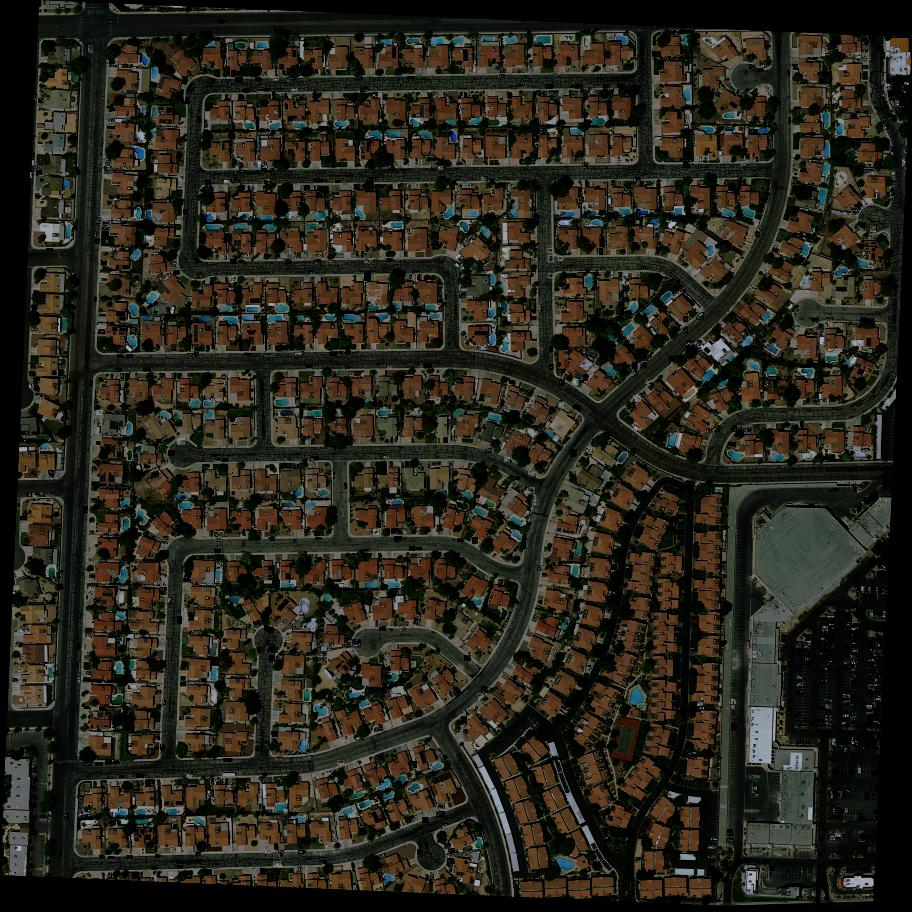large-vehicle: (316, 658, 327, 668), (436, 811, 445, 819), (623, 275, 629, 286), (166, 597, 173, 606), (137, 773, 145, 779), (28, 384, 34, 391), (857, 766, 862, 774), (224, 759, 231, 762), (110, 196, 119, 198), (264, 180, 272, 182), (46, 492, 51, 495), (32, 494, 38, 495)
ship: (892, 171, 896, 181)
small-vehicle: (352, 639, 361, 647), (459, 291, 468, 299), (686, 341, 695, 349), (680, 327, 689, 335), (269, 644, 277, 652), (634, 394, 642, 402), (586, 447, 594, 455), (870, 225, 878, 233), (519, 484, 527, 492), (274, 861, 283, 868), (795, 683, 804, 690), (573, 405, 582, 412), (571, 449, 578, 458), (364, 273, 371, 282), (696, 313, 705, 320), (533, 499, 540, 508), (687, 750, 697, 756), (476, 434, 482, 444), (178, 438, 186, 445), (36, 394, 44, 401), (231, 275, 238, 283), (481, 686, 489, 693), (396, 528, 404, 535), (815, 611, 823, 618), (632, 362, 639, 370), (560, 379, 567, 387), (507, 183, 514, 191), (499, 182, 506, 190), (407, 274, 414, 282), (615, 155, 622, 163), (714, 426, 722, 433), (874, 364, 882, 371), (793, 304, 800, 312), (855, 505, 862, 513), (887, 110, 895, 117), (177, 616, 183, 625), (88, 45, 94, 54), (652, 51, 661, 57), (246, 185, 253, 192), (447, 690, 454, 697), (477, 692, 484, 699), (463, 709, 470, 716), (374, 529, 381, 536), (464, 655, 471, 662), (442, 822, 449, 829), (156, 871, 163, 878), (179, 121, 186, 128), (182, 76, 189, 83), (530, 487, 537, 494), (583, 375, 590, 382), (646, 378, 653, 385), (641, 363, 648, 370), (529, 397, 536, 404), (558, 402, 565, 409), (403, 159, 410, 166), (174, 270, 181, 277), (731, 426, 738, 433), (744, 154, 751, 161), (851, 509, 858, 516), (570, 471, 577, 478), (636, 528, 643, 535), (902, 159, 909, 166), (168, 450, 176, 456), (85, 662, 91, 670), (58, 253, 66, 259), (35, 164, 43, 170), (378, 724, 384, 732), (385, 651, 391, 659), (343, 734, 349, 742), (353, 438, 359, 446), (447, 858, 455, 864), (260, 868, 266, 876), (108, 107, 116, 113), (243, 88, 251, 94), (215, 69, 221, 77), (330, 350, 338, 356), (858, 815, 864, 823), (838, 791, 844, 799), (833, 769, 839, 777), (860, 845, 868, 851), (814, 898, 820, 906), (825, 709, 833, 715), (633, 370, 639, 378), (308, 271, 316, 277), (575, 84, 583, 90), (432, 94, 440, 100), (470, 65, 476, 73), (850, 207, 858, 213), (676, 538, 684, 544), (880, 52, 886, 60), (472, 537, 478, 545), (318, 652, 327, 657), (328, 446, 337, 451), (254, 741, 259, 750), (95, 419, 101, 426), (35, 193, 42, 199), (171, 345, 177, 352), (272, 647, 278, 654), (269, 655, 275, 662), (474, 706, 480, 713), (413, 619, 419, 626), (105, 760, 112, 766), (274, 844, 280, 851), (207, 869, 213, 876), (213, 863, 220, 869), (108, 125, 115, 131), (827, 653, 834, 659), (573, 379, 579, 386), (600, 267, 607, 273), (461, 158, 467, 165), (642, 825, 649, 831), (606, 835, 612, 842), (443, 437, 449, 444), (504, 457, 511, 463), (354, 184, 360, 191), (561, 706, 568, 712), (706, 428, 713, 434), (669, 357, 676, 363), (863, 499, 869, 506), (860, 502, 866, 509), (757, 225, 763, 232), (855, 52, 862, 58), (33, 377, 41, 382), (337, 760, 345, 765), (394, 436, 399, 444), (369, 528, 374, 536), (272, 77, 280, 82), (235, 77, 243, 82), (825, 705, 833, 710), (850, 674, 858, 679), (726, 838, 734, 843), (852, 848, 860, 853), (843, 791, 848, 799), (424, 363, 432, 368), (576, 774, 584, 779), (528, 473, 536, 478), (459, 92, 464, 100), (499, 579, 504, 587), (228, 439, 234, 445), (93, 467, 99, 473), (392, 529, 398, 535), (187, 71, 193, 77), (697, 340, 703, 346), (405, 184, 411, 190), (855, 204, 861, 210), (857, 202, 863, 208), (860, 222, 866, 228), (885, 534, 891, 540), (865, 497, 871, 503), (736, 859, 741, 866), (90, 498, 97, 503), (97, 411, 104, 416), (159, 591, 166, 596), (87, 636, 94, 641), (93, 598, 100, 603), (157, 581, 164, 586), (179, 373, 184, 380), (95, 238, 100, 245), (462, 717, 467, 724), (438, 804, 445, 809), (519, 729, 526, 734), (444, 844, 451, 849), (239, 169, 246, 174), (107, 19, 114, 24), (185, 98, 190, 105), (263, 70, 268, 77), (231, 70, 236, 77), (804, 647, 811, 652), (667, 609, 674, 614), (836, 667, 841, 674), (872, 769, 877, 776), (683, 163, 690, 168), (844, 746, 849, 753), (832, 739, 837, 746), (866, 711, 873, 716), (550, 364, 555, 371), (628, 273, 633, 280), (599, 249, 604, 256), (639, 834, 646, 839), (533, 96, 538, 103), (617, 84, 624, 89), (546, 85, 553, 90), (383, 94, 388, 101), (514, 675, 519, 682), (751, 285, 756, 292), (878, 587, 883, 594), (677, 531, 684, 536), (678, 517, 685, 522), (880, 46, 885, 53), (896, 74, 903, 79), (874, 106, 879, 113), (143, 367, 151, 371), (448, 855, 456, 859), (448, 849, 456, 853), (101, 261, 107, 266), (172, 263, 178, 268), (113, 374, 118, 380), (357, 665, 362, 671), (309, 459, 315, 464), (265, 626, 270, 632), (119, 775, 125, 780), (87, 761, 93, 766), (146, 779, 151, 785), (247, 734, 253, 739), (257, 621, 263, 626), (254, 622, 259, 628), (150, 779, 155, 785), (297, 867, 302, 873), (213, 778, 218, 784), (31, 152, 36, 158), (32, 136, 37, 142), (109, 60, 115, 65), (108, 122, 114, 127), (828, 665, 834, 670), (690, 680, 696, 685), (822, 622, 828, 627), (709, 845, 715, 850), (862, 816, 867, 822), (836, 807, 841, 813), (829, 791, 834, 797), (839, 809, 844, 815), (684, 317, 689, 323), (696, 343, 701, 349), (737, 395, 742, 401), (544, 736, 550, 741), (376, 522, 381, 528), (874, 810, 879, 816), (867, 699, 873, 704), (868, 670, 874, 675), (855, 593, 860, 599), (495, 183, 500, 189), (588, 695, 594, 700), (509, 93, 514, 99), (327, 69, 332, 75), (860, 317, 866, 322), (868, 319, 874, 324), (878, 571, 883, 577), (882, 536, 888, 541), (881, 539, 886, 545), (868, 36, 873, 42), (749, 64, 755, 69), (515, 476, 521, 481), (523, 488, 528, 494), (611, 564, 617, 569), (891, 146, 896, 152), (886, 87, 892, 92), (892, 115, 897, 121), (736, 90, 741, 96), (36, 171, 43, 175), (97, 216, 101, 223), (99, 330, 106, 334), (126, 354, 133, 358), (97, 322, 104, 326), (210, 277, 214, 284), (426, 874, 430, 881), (405, 461, 409, 468), (413, 761, 417, 768), (269, 626, 273, 633), (93, 781, 97, 788), (172, 846, 176, 853), (126, 855, 133, 859), (239, 94, 243, 101), (875, 639, 882, 643), (850, 655, 857, 659), (852, 634, 859, 638), (846, 620, 853, 624), (697, 706, 704, 710), (835, 833, 842, 837), (872, 793, 876, 800), (872, 734, 879, 738), (618, 272, 622, 279), (431, 165, 438, 169), (485, 448, 492, 452), (297, 252, 301, 259), (360, 87, 367, 91), (497, 74, 504, 78), (881, 73, 885, 80), (902, 100, 906, 107), (352, 645, 361, 648), (414, 158, 419, 163), (770, 400, 775, 405), (877, 540, 882, 545), (84, 506, 88, 512), (161, 587, 167, 591), (161, 575, 167, 579), (210, 531, 214, 537), (244, 352, 250, 356), (190, 353, 198, 356), (115, 368, 121, 372), (32, 308, 38, 312), (285, 260, 291, 264), (395, 822, 399, 828), (306, 437, 310, 443), (394, 536, 402, 539), (95, 763, 103, 766), (276, 756, 282, 760), (298, 850, 304, 854), (37, 123, 43, 127), (797, 663, 803, 667), (843, 689, 849, 693), (852, 683, 858, 687), (846, 623, 852, 627), (828, 636, 834, 640), (822, 626, 828, 630), (865, 793, 869, 799), (691, 645, 697, 649), (875, 816, 879, 822), (867, 689, 873, 693), (876, 671, 882, 675), (864, 740, 868, 746), (640, 266, 646, 270), (456, 185, 460, 191), (600, 825, 606, 829), (585, 451, 591, 455), (464, 92, 468, 98), (591, 89, 595, 95), (519, 85, 527, 88), (736, 424, 742, 428), (885, 588, 889, 594), (862, 66, 868, 70), (888, 91, 894, 95), (899, 130, 903, 136), (899, 100, 903, 106), (895, 100, 899, 106), (886, 83, 892, 87), (869, 79, 873, 85), (20, 517, 27, 520), (77, 664, 80, 671), (78, 643, 81, 650), (258, 531, 261, 538), (174, 219, 181, 222), (379, 627, 386, 630), (264, 851, 271, 854), (796, 676, 803, 679), (843, 696, 850, 699), (851, 680, 858, 683), (797, 691, 804, 694), (804, 645, 811, 648), (710, 838, 717, 841), (860, 834, 867, 837), (826, 715, 833, 718), (874, 699, 881, 702), (870, 740, 873, 747), (584, 666, 591, 669), (386, 167, 393, 170), (364, 260, 371, 263), (385, 258, 392, 261), (295, 352, 302, 355), (569, 85, 576, 88), (603, 85, 610, 88), (355, 76, 362, 79), (772, 249, 779, 252), (728, 442, 735, 445), (49, 470, 54, 474), (265, 163, 269, 168), (118, 354, 123, 358), (32, 305, 37, 309), (246, 252, 250, 257), (345, 636, 350, 640), (187, 775, 192, 779), (79, 798, 83, 803), (225, 95, 230, 99), (823, 737, 827, 742), (797, 667, 802, 671), (821, 679, 826, 683), (820, 651, 825, 655), (884, 595, 888, 600), (731, 723, 736, 727), (698, 702, 703, 706), (332, 473, 336, 478), (873, 747, 878, 751), (843, 721, 848, 725), (850, 718, 855, 722), (610, 272, 614, 277), (438, 166, 443, 170), (637, 180, 641, 185), (827, 317, 832, 321), (876, 543, 880, 548), (627, 565, 631, 570), (538, 566, 542, 571), (751, 154, 755, 159), (788, 118, 792, 123), (144, 465, 150, 468), (222, 459, 228, 462), (22, 513, 28, 516), (88, 577, 94, 580), (185, 572, 191, 575), (214, 550, 220, 553), (216, 538, 222, 541), (90, 565, 93, 571), (35, 188, 41, 191), (46, 249, 52, 252), (205, 181, 211, 184), (225, 277, 228, 283), (387, 529, 390, 535), (363, 549, 369, 552), (65, 813, 68, 819), (113, 761, 119, 764), (271, 731, 277, 734), (161, 744, 164, 750), (321, 861, 327, 864), (151, 867, 157, 870), (105, 163, 111, 166), (109, 119, 115, 122), (38, 103, 44, 106), (851, 702, 857, 705), (851, 695, 857, 698), (851, 671, 857, 674), (797, 641, 803, 644), (876, 636, 882, 639), (804, 651, 810, 654), (852, 649, 858, 652), (845, 613, 851, 616), (709, 866, 715, 869), (422, 608, 425, 614), (875, 691, 881, 694), (855, 740, 858, 746), (873, 708, 879, 711), (866, 709, 872, 712), (624, 881, 627, 887), (405, 194, 408, 200), (292, 88, 298, 91), (405, 251, 408, 257), (407, 76, 413, 79), (890, 379, 893, 385), (882, 571, 885, 577), (876, 555, 882, 558), (862, 50, 868, 53), (902, 85, 905, 91), (257, 648, 261, 652), (120, 374, 124, 378), (211, 345, 215, 349), (156, 690, 160, 694), (13, 678, 17, 682), (423, 818, 427, 822), (265, 88, 269, 92), (287, 78, 295, 80), (388, 365, 392, 369), (852, 608, 856, 612), (829, 622, 833, 626), (813, 319, 817, 323), (903, 147, 907, 151), (883, 125, 887, 129), (345, 350, 350, 353), (162, 460, 167, 463), (156, 440, 161, 443), (30, 372, 35, 375), (165, 640, 168, 645), (193, 583, 198, 586), (89, 381, 92, 386), (253, 162, 256, 167), (223, 253, 226, 258), (231, 260, 236, 263), (388, 628, 393, 631), (457, 727, 460, 732), (356, 738, 361, 741), (431, 874, 434, 879), (390, 438, 393, 443), (311, 530, 314, 535), (409, 547, 414, 550), (181, 683, 186, 686), (108, 872, 111, 877), (219, 20, 224, 23), (198, 117, 201, 122), (257, 89, 262, 92), (338, 351, 343, 354), (796, 645, 801, 648), (870, 637, 875, 640), (844, 661, 849, 664), (844, 645, 849, 648), (878, 611, 881, 616), (871, 594, 874, 599), (821, 645, 826, 648), (821, 635, 826, 638), (829, 612, 834, 615), (839, 816, 842, 821), (708, 855, 713, 858), (730, 872, 733, 877), (875, 787, 878, 792), (871, 765, 874, 770), (860, 839, 865, 842), (831, 747, 834, 752), (211, 778, 214, 783), (769, 873, 772, 878), (769, 865, 772, 870), (868, 677, 873, 680), (844, 711, 849, 714), (851, 737, 854, 742), (850, 712, 855, 715), (861, 594, 864, 599), (550, 347, 553, 352), (482, 177, 487, 180), (595, 813, 600, 816), (612, 181, 615, 186), (538, 91, 541, 96), (821, 325, 824, 330), (744, 428, 747, 433), (800, 421, 803, 426), (748, 427, 751, 432), (881, 86, 884, 91), (881, 80, 884, 85), (880, 39, 883, 44), (458, 539, 463, 542), (883, 93, 886, 98), (885, 102, 888, 107), (870, 72, 873, 77), (184, 575, 191, 577), (206, 345, 208, 352), (306, 366, 313, 368), (104, 165, 111, 167), (780, 645, 787, 647), (804, 641, 811, 643), (853, 852, 860, 854), (530, 317, 537, 319), (870, 54, 872, 61), (293, 463, 295, 469), (285, 457, 289, 460), (215, 458, 221, 460), (26, 493, 32, 495), (103, 228, 109, 230), (103, 221, 109, 223), (74, 225, 77, 229), (171, 267, 175, 270), (345, 641, 351, 643), (418, 850, 421, 854), (316, 538, 322, 540), (344, 365, 350, 367), (383, 456, 389, 458), (376, 620, 378, 626), (273, 735, 277, 738), (21, 747, 23, 753), (271, 737, 277, 739), (127, 840, 129, 846), (178, 866, 182, 869), (195, 853, 201, 855), (58, 852, 61, 856), (39, 99, 43, 102), (34, 93, 37, 97), (799, 647, 803, 650), (844, 693, 848, 696), (850, 677, 856, 679), (851, 668, 857, 670), (821, 667, 825, 670), (804, 634, 810, 636), (868, 659, 872, 662), (868, 650, 874, 652), (868, 640, 874, 642), (804, 663, 810, 665), (805, 661, 811, 663), (804, 657, 810, 659), (828, 649, 832, 652), (852, 643, 856, 646), (846, 636, 852, 638), (852, 630, 858, 632), (852, 628, 858, 630), (853, 624, 859, 626), (846, 618, 852, 620), (878, 594, 880, 600), (693, 620, 697, 623), (828, 630, 834, 632), (728, 833, 732, 836), (877, 659, 881, 662), (829, 836, 835, 838), (835, 837, 841, 839), (835, 790, 838, 794), (846, 786, 849, 790), (119, 248, 125, 250), (772, 867, 775, 871), (825, 721, 829, 724), (867, 692, 873, 694), (867, 686, 873, 688), (875, 683, 879, 686), (875, 668, 881, 670), (861, 740, 864, 744), (874, 726, 880, 728), (873, 715, 879, 717), (866, 722, 870, 725), (886, 571, 888, 577), (510, 381, 514, 384), (610, 817, 613, 821), (526, 403, 529, 407), (636, 857, 639, 861), (453, 436, 456, 440), (336, 180, 340, 183), (294, 252, 297, 256), (314, 260, 320, 262), (418, 275, 421, 279), (407, 342, 409, 348), (285, 93, 288, 97), (315, 70, 318, 74), (756, 232, 759, 236), (855, 586, 858, 590), (878, 564, 881, 568), (876, 588, 879, 592), (861, 587, 864, 591), (854, 487, 857, 491), (787, 70, 790, 74), (792, 64, 798, 66), (741, 164, 747, 166), (889, 98, 895, 100), (96, 441, 101, 443), (35, 386, 37, 391), (89, 574, 94, 576), (90, 591, 92, 596), (92, 518, 94, 523), (184, 579, 189, 581), (164, 537, 169, 539), (96, 232, 98, 237), (225, 181, 230, 183), (156, 345, 158, 350), (32, 328, 37, 330), (197, 275, 202, 277), (400, 627, 405, 629), (307, 531, 309, 536), (416, 548, 421, 550), (155, 737, 160, 739), (266, 740, 268, 745), (278, 851, 283, 853), (100, 856, 105, 858), (218, 777, 220, 782), (262, 169, 267, 171), (106, 159, 111, 161), (273, 93, 275, 98), (256, 78, 261, 80), (798, 651, 803, 653), (844, 698, 849, 700), (829, 661, 834, 663), (781, 635, 786, 637), (780, 642, 785, 644), (805, 654, 810, 656), (821, 649, 826, 651), (852, 639, 857, 641), (846, 630, 851, 632), (875, 595, 877, 600), (673, 700, 678, 702), (868, 662, 873, 664), (802, 868, 804, 873), (831, 853, 836, 855), (834, 808, 836, 813), (795, 713, 800, 715), (819, 707, 824, 709), (843, 715, 848, 717), (873, 722, 878, 724), (841, 739, 843, 744), (874, 740, 876, 745), (874, 719, 879, 721), (867, 715, 872, 717), (850, 721, 855, 723), (552, 757, 557, 759), (624, 875, 626, 880), (305, 185, 307, 190), (314, 180, 319, 182), (167, 308, 169, 313), (356, 251, 358, 256), (583, 164, 588, 166), (529, 64, 531, 69), (374, 93, 376, 98), (774, 246, 779, 248), (881, 68, 883, 73), (758, 69, 763, 71), (904, 82, 909, 84), (889, 95, 894, 97), (870, 88, 872, 93), (177, 374, 180, 377), (846, 627, 849, 630), (829, 620, 832, 623), (732, 726, 735, 729), (876, 662, 879, 665), (692, 164, 695, 167), (864, 747, 867, 750), (873, 713, 876, 716), (612, 807, 615, 810), (361, 252, 364, 255), (641, 182, 644, 185), (40, 493, 44, 495), (244, 530, 246, 534), (270, 537, 274, 539), (75, 220, 77, 224), (102, 279, 106, 281), (262, 161, 264, 165), (270, 169, 274, 171), (269, 345, 271, 349), (239, 261, 243, 263), (383, 653, 385, 657), (163, 700, 165, 704), (100, 707, 104, 709), (84, 707, 88, 709), (326, 843, 328, 847), (155, 855, 159, 857), (109, 856, 113, 858), (798, 657, 802, 659), (825, 699, 829, 701), (844, 702, 848, 704), (804, 679, 808, 681), (871, 611, 873, 615), (869, 652, 873, 654), (806, 639, 810, 641), (829, 639, 833, 641), (822, 618, 826, 620), (691, 648, 695, 650), (836, 816, 838, 820), (846, 809, 848, 813), (874, 697, 878, 699), (875, 693, 879, 695), (875, 687, 879, 689), (850, 715, 854, 717), (539, 306, 541, 310), (643, 822, 647, 824), (309, 345, 311, 349), (886, 564, 888, 568), (872, 587, 874, 591), (869, 587, 871, 591), (865, 587, 867, 591), (739, 92, 741, 96), (99, 315, 106, 316), (224, 380, 225, 387), (709, 861, 716, 862), (874, 706, 881, 707), (596, 248, 597, 255), (887, 80, 894, 81), (49, 474, 55, 475), (34, 382, 37, 384), (312, 457, 318, 458), (875, 656, 881, 657), (829, 626, 831, 629), (728, 830, 731, 832), (672, 704, 678, 705), (868, 665, 871, 667), (875, 675, 878, 677), (846, 739, 847, 745), (852, 746, 853, 752), (867, 725, 870, 727), (867, 718, 873, 719), (603, 828, 606, 830), (372, 259, 378, 260), (543, 92, 545, 95), (823, 399, 825, 402), (543, 574, 546, 576), (31, 173, 32, 178), (235, 160, 236, 165), (798, 654, 803, 655), (876, 644, 881, 645), (874, 611, 875, 616), (851, 661, 856, 662), (866, 595, 867, 600), (829, 617, 834, 618), (345, 483, 346, 488), (818, 720, 823, 721), (867, 706, 872, 707), (873, 703, 878, 704), (869, 675, 874, 676), (839, 739, 840, 744), (640, 833, 645, 834), (586, 180, 587, 185), (322, 180, 327, 181), (876, 571, 877, 576), (793, 67, 798, 68), (197, 447, 201, 448), (870, 655, 874, 656), (843, 667, 847, 668), (851, 665, 855, 666), (821, 639, 825, 640), (822, 630, 826, 631), (860, 852, 864, 853), (828, 724, 832, 725), (825, 718, 829, 719), (307, 186, 308, 190), (882, 588, 883, 592), (184, 210, 185, 213), (235, 181, 238, 182), (798, 660, 801, 661), (884, 612, 885, 615), (828, 645, 831, 646), (390, 462, 391, 465), (625, 892, 626, 895), (881, 61, 882, 64), (102, 225, 108, 225), (257, 109, 257, 113), (869, 647, 873, 647), (868, 643, 872, 643), (851, 773, 851, 774), (868, 684, 872, 684), (843, 718, 847, 718), (883, 565, 883, 568)
